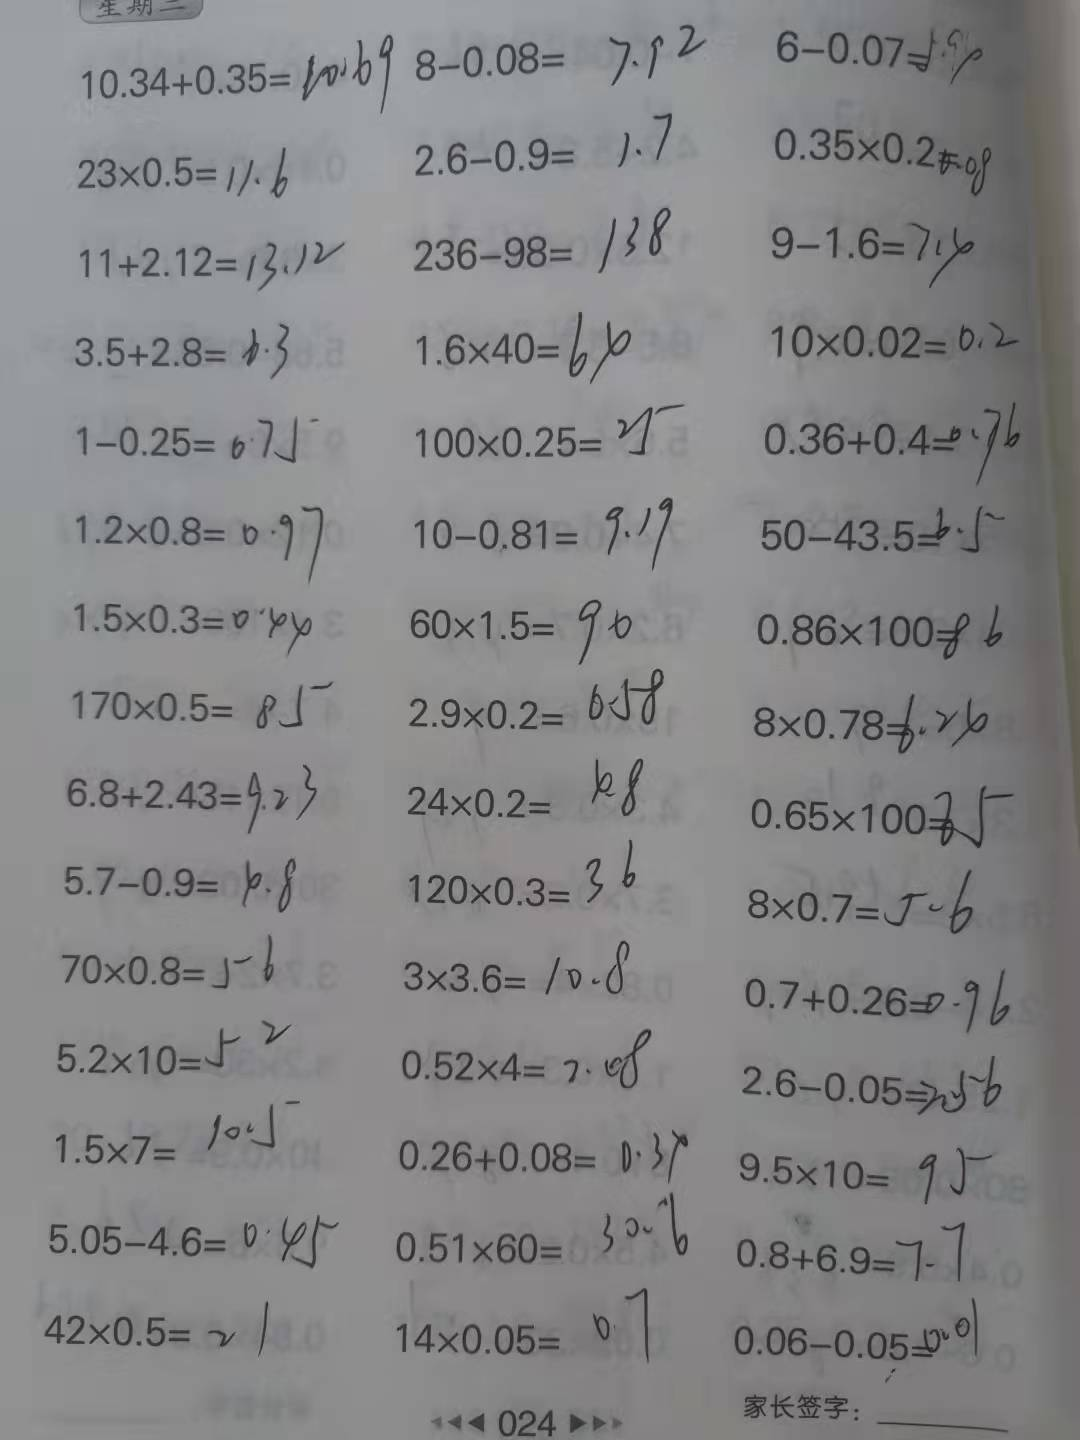equation: (71, 28, 400, 122), (386, 1102, 697, 1191), (389, 1196, 701, 1279), (408, 478, 677, 574), (757, 395, 1031, 488), (739, 955, 1026, 1042), (728, 1042, 1013, 1129), (751, 107, 999, 201), (50, 1089, 301, 1181), (61, 499, 334, 583), (740, 783, 1023, 863), (406, 11, 710, 85), (736, 1211, 981, 1301), (410, 204, 683, 283), (408, 104, 680, 183), (36, 1209, 352, 1276), (737, 494, 1018, 569), (395, 836, 663, 914), (413, 297, 634, 391), (404, 661, 677, 737), (753, 591, 1022, 668), (389, 1289, 657, 1365), (69, 220, 347, 293), (56, 590, 334, 662), (52, 763, 329, 836), (398, 931, 655, 1009), (750, 864, 977, 950), (729, 691, 1007, 761), (397, 749, 653, 825), (398, 1025, 664, 1098), (414, 398, 689, 467), (723, 1295, 996, 1364), (54, 401, 324, 471), (54, 846, 305, 920), (31, 1304, 320, 1367), (754, 300, 1024, 369), (398, 592, 642, 667), (45, 1005, 296, 1077), (773, 17, 996, 95), (66, 135, 299, 207), (768, 213, 981, 290), (68, 315, 302, 386), (47, 932, 290, 999), (731, 1140, 996, 1200), (65, 677, 337, 734)
